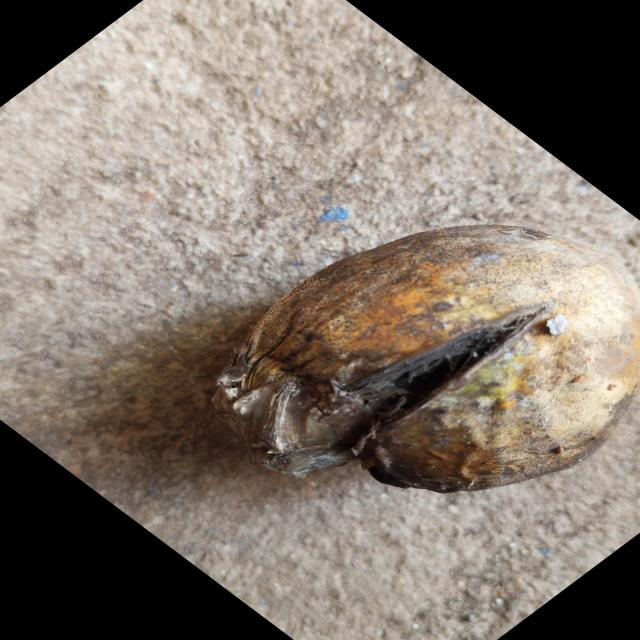damaged: (213, 226, 640, 492)
